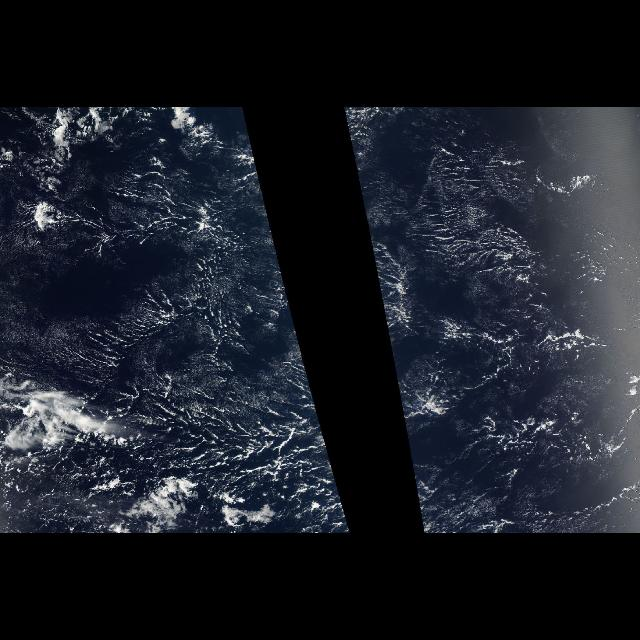Gravel: (362, 136, 640, 534), (4, 242, 342, 532), (62, 131, 256, 237)
Sugar: (6, 146, 318, 410), (351, 146, 639, 410)
